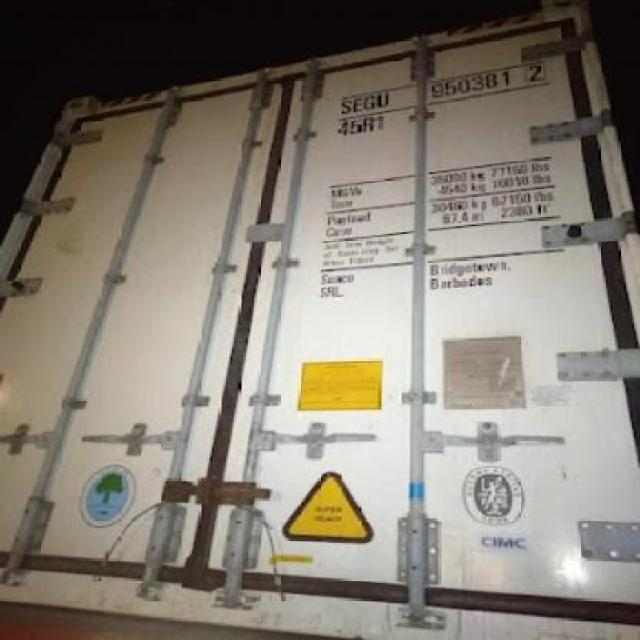ISO: (329, 116, 387, 142)
container_number: (337, 54, 557, 115)
